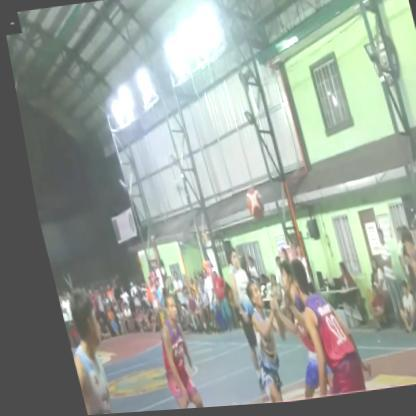basketball: (232, 184, 261, 226)
